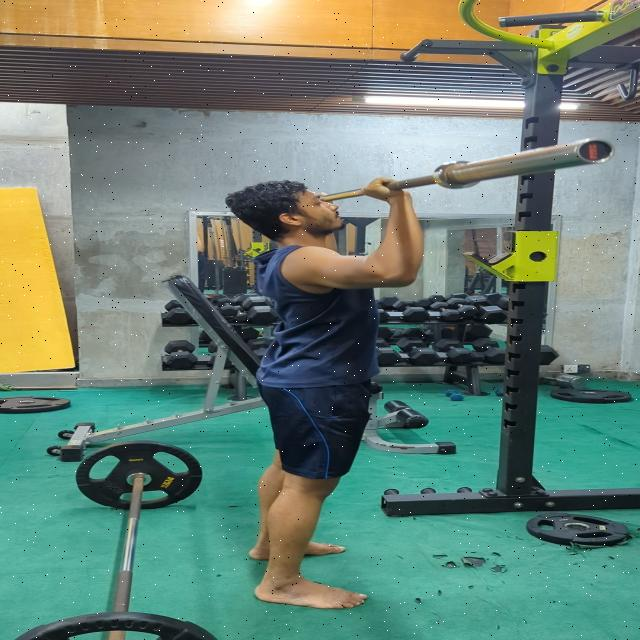Normal_OverheadPress: (192, 160, 444, 617)
